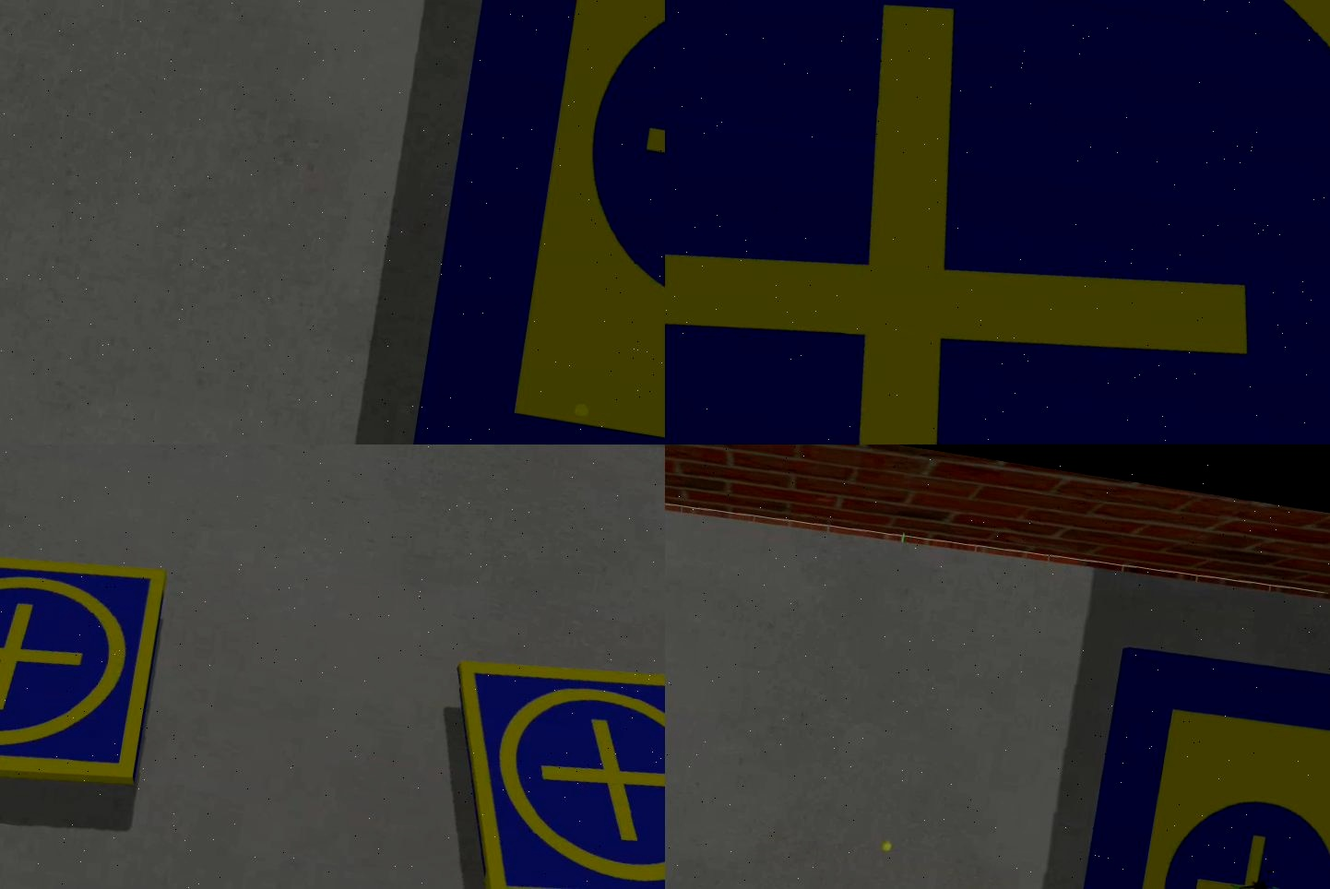large_base: (666, 1, 1330, 445), (406, 1, 666, 445), (1048, 641, 1330, 889)
small_base: (421, 641, 666, 889), (1, 520, 174, 813)
